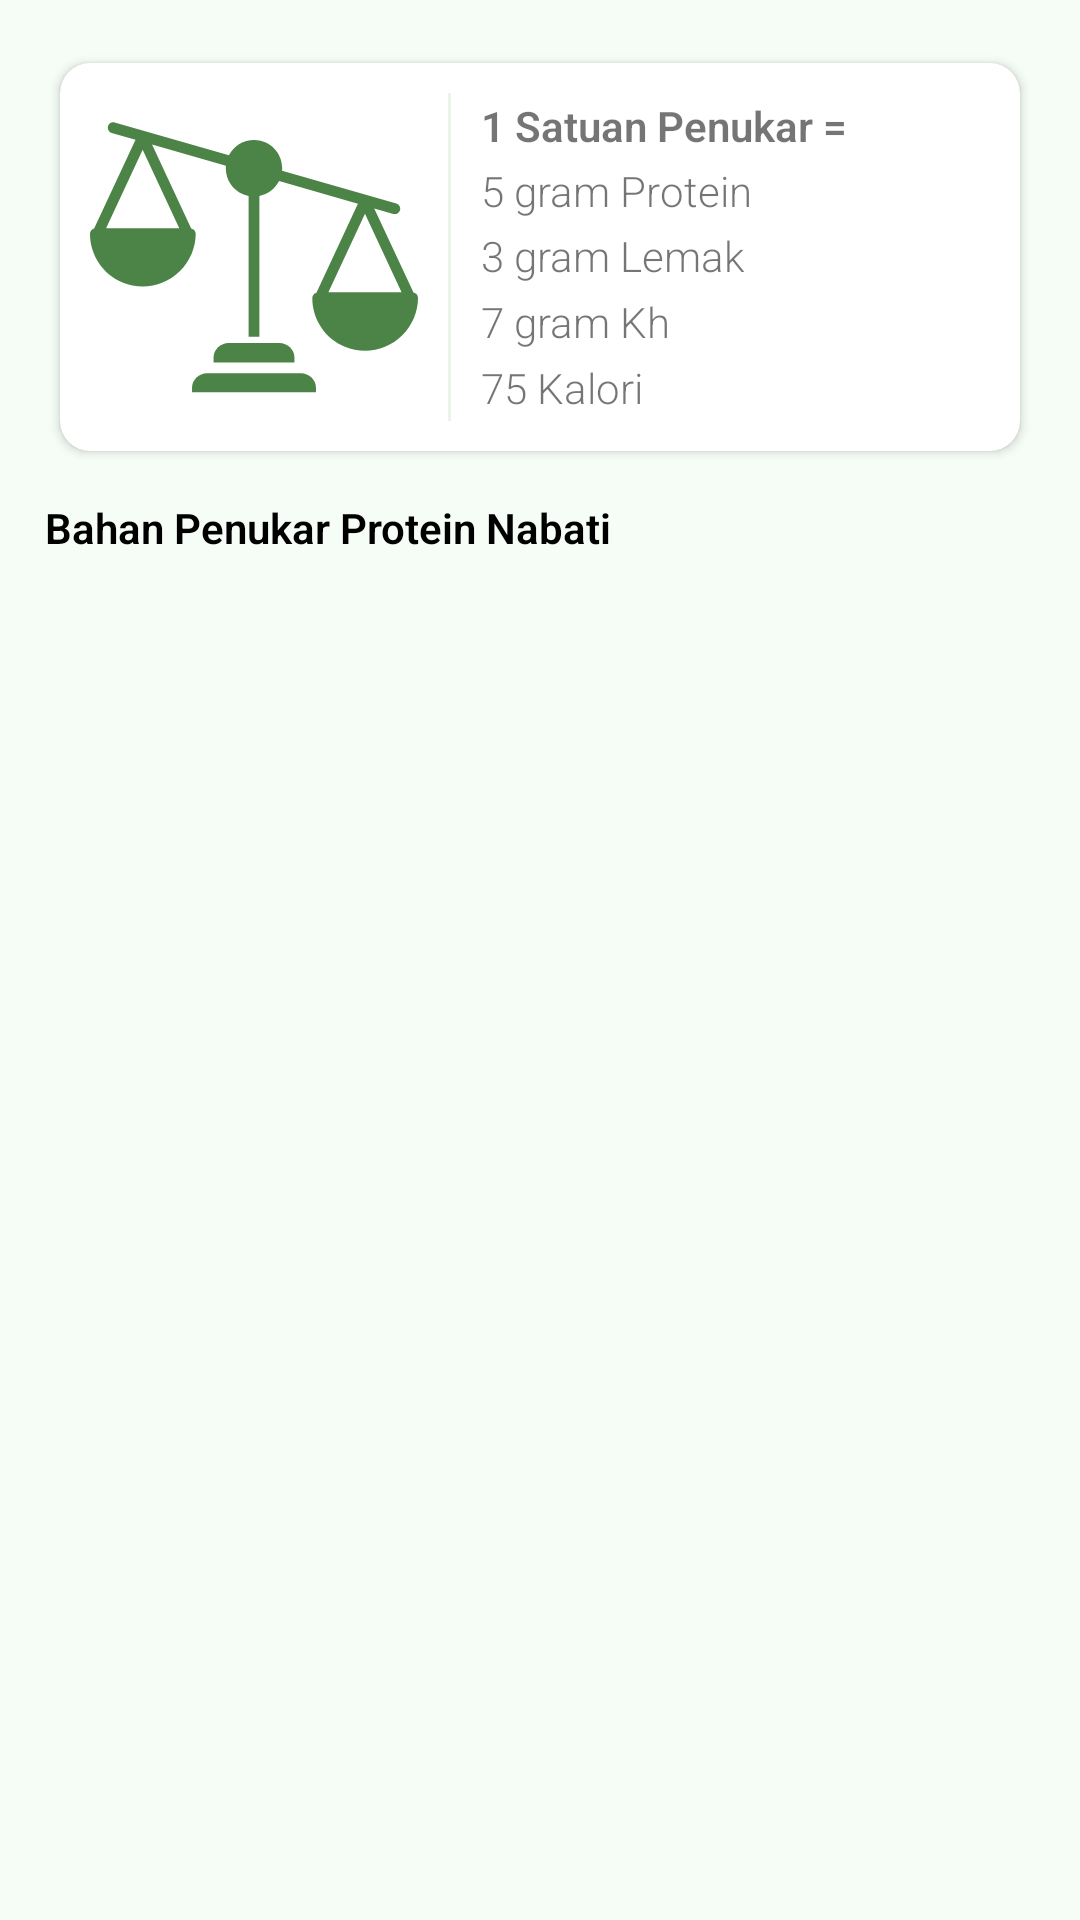

Icon bounding boxes for this 1080px×1920px phone screenshot, format (x1,y1,x2,y2):
balance: (90,122,418,393)
